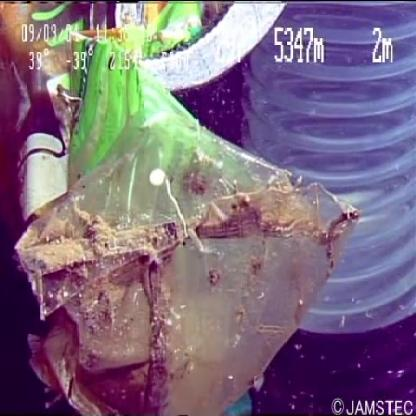Rác: (5, 112, 383, 416)
